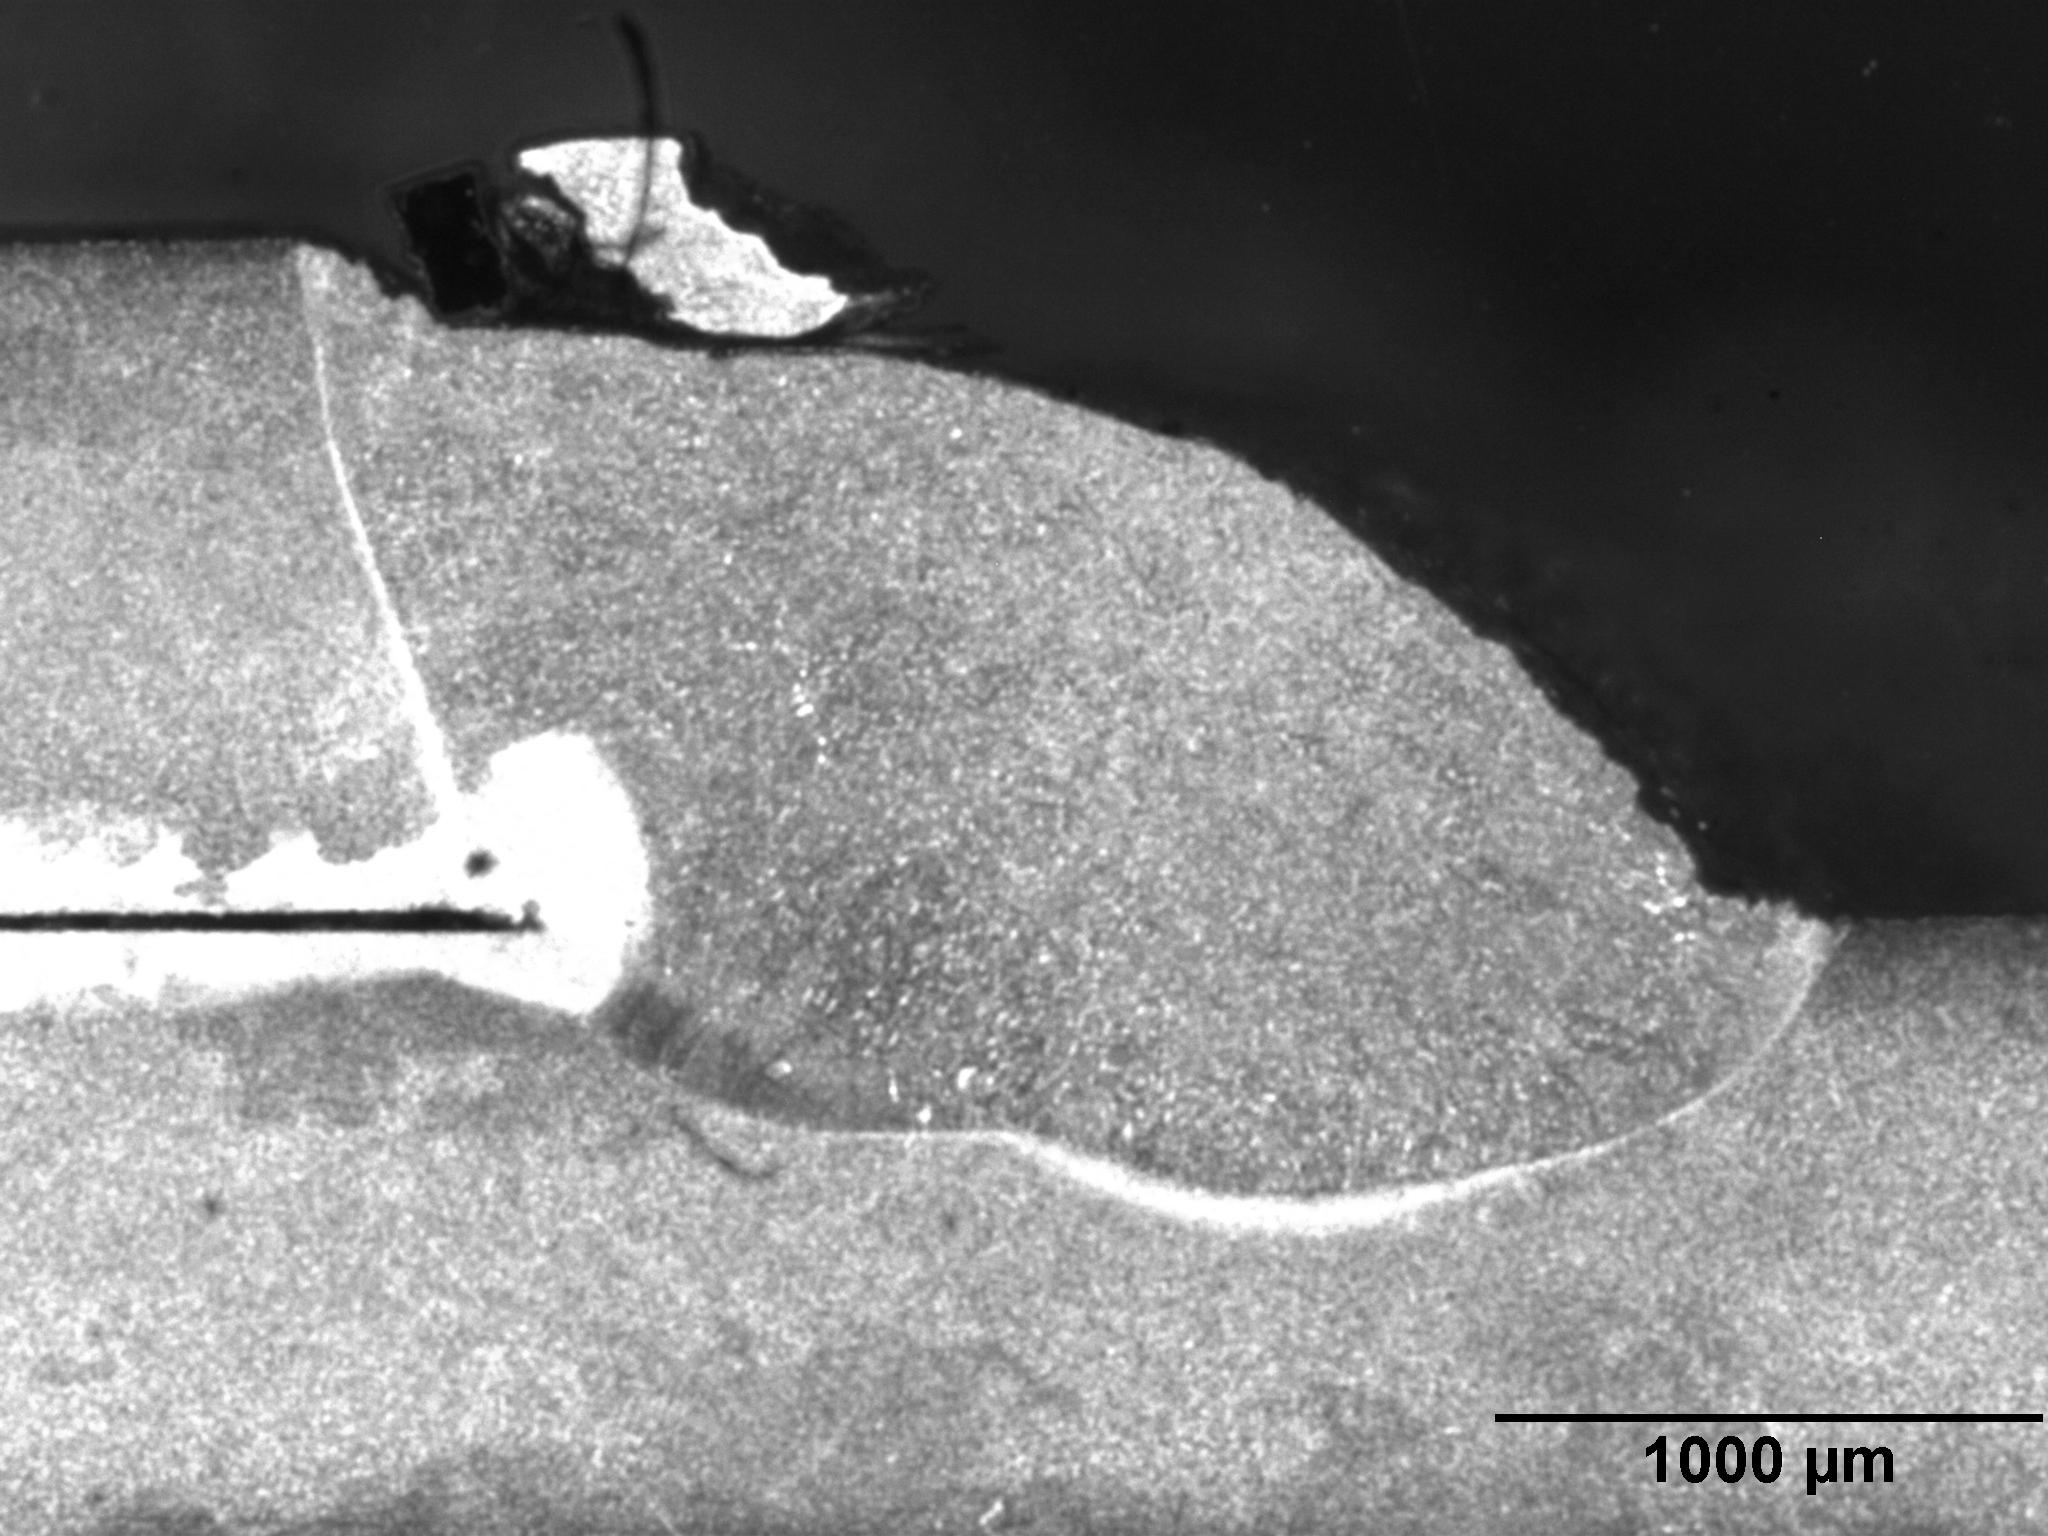Scale-bar: (1485, 1405, 2048, 1505)
